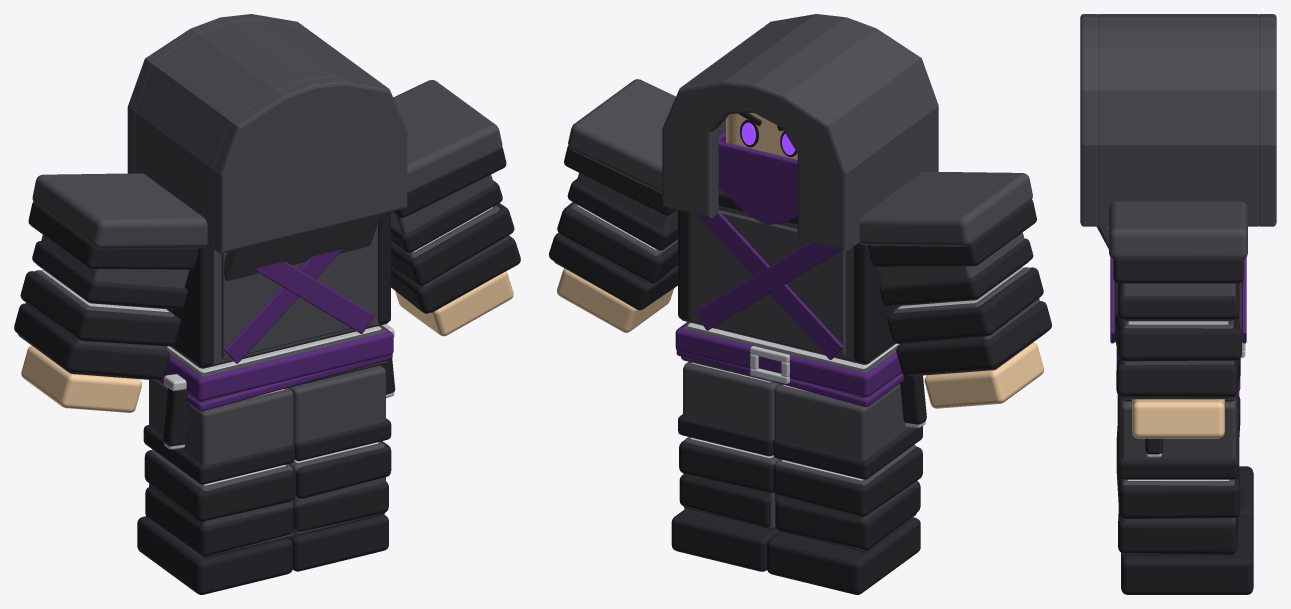
The model's file is assassin_male.glb.
3 views of the same model, side by side, from view 1: azimuth 30°, elevation 25°; view 2: azimuth 150°, elevation 25°; view 3: azimuth 270°, elevation 25° (orthographic). The views are drawn at different scales.
Visible parts, largest first — view 1: Hood_BackCap, Hood_Shell, LeftUpperArm_Pauldron, UpperTorso_BackPlate, RightUpperArm_Pauldron, LeftUpperLeg_Pants, LeftFoot_Boot, LowerTorso_Belt, RightUpperLeg_Pants, LeftLowerArm_Bracer, LeftLowerArm_Bracer2, LeftLowerLeg_Band (+31 smaller); view 2: Hood_Shell, Hood_FrontRim, UpperTorso_ChestPlate, LeftUpperArm_Pauldron, RightUpperArm_Pauldron, LeftUpperLeg_Pants, LeftFoot_Boot, RightUpperLeg_Pants, Mask_Front, LeftLowerArm_Bracer, LowerTorso_Belt, LeftLowerArm_Bracer2 (+32 smaller); view 3: Hood_Shell, RightUpperArm_Pauldron, RightFoot_Boot, RightLowerArm_Bracer, RightLowerLeg_Band, RightLowerArm_Bracer2, RightLowerLeg_Band2, Hood_BackCap, Hood_FrontRim, RightHand_Skin, RightUpperArm_PauldronPlate, RightUpperLeg_Pants (+10 smaller).
Boxes of the visible parts, <box> form: Hood_BackCap: <box>213,76,407,253</box>; Hood_Shell: <box>135,19,381,247</box>; LeftUpperArm_Pauldron: <box>32,173,208,249</box>; UpperTorso_BackPlate: <box>221,241,372,359</box>; RightUpperArm_Pauldron: <box>393,80,502,194</box>; LeftUpperLeg_Pants: <box>149,380,293,465</box>; LeftFoot_Boot: <box>137,516,292,594</box>; LowerTorso_Belt: <box>164,325,393,401</box>; RightUpperLeg_Pants: <box>288,365,385,444</box>; LeftLowerArm_Bracer: <box>20,271,180,346</box>; LeftLowerArm_Bracer2: <box>14,303,169,379</box>; LeftLowerLeg_Band: <box>144,450,293,521</box>; Hood_Shell: <box>687,19,930,245</box>; Hood_FrontRim: <box>662,76,853,250</box>; UpperTorso_ChestPlate: <box>697,210,845,355</box>; LeftUpperArm_Pauldron: <box>859,171,1032,246</box>; RightUpperArm_Pauldron: <box>568,79,675,192</box>; LeftUpperLeg_Pants: <box>774,384,910,460</box>; LeftFoot_Boot: <box>767,517,920,594</box>; RightUpperLeg_Pants: <box>683,361,779,439</box>; Mask_Front: <box>718,141,797,224</box>; LeftLowerArm_Bracer: <box>887,267,1043,343</box>; LowerTorso_Belt: <box>675,322,901,397</box>; LeftLowerArm_Bracer2: <box>896,301,1051,374</box>; Hood_Shell: <box>1098,14,1258,226</box>; RightUpperArm_Pauldron: <box>1109,201,1247,259</box>; RightFoot_Boot: <box>1121,515,1253,594</box>; RightLowerArm_Bracer: <box>1115,314,1241,361</box>; RightLowerLeg_Band: <box>1116,445,1240,518</box>; RightLowerArm_Bracer2: <box>1116,357,1240,396</box>; RightLowerLeg_Band2: <box>1118,508,1238,554</box>; Hood_BackCap: <box>1080,14,1097,226</box>; Hood_FrontRim: <box>1259,14,1276,226</box>; RightHand_Skin: <box>1132,399,1224,438</box>; RightUpperArm_PauldronPlate: <box>1113,257,1243,283</box>; RightUpperLeg_Pants: <box>1120,398,1236,459</box>.
Size of the model in its own units: 4.93 by 5.2 by 1.78.
